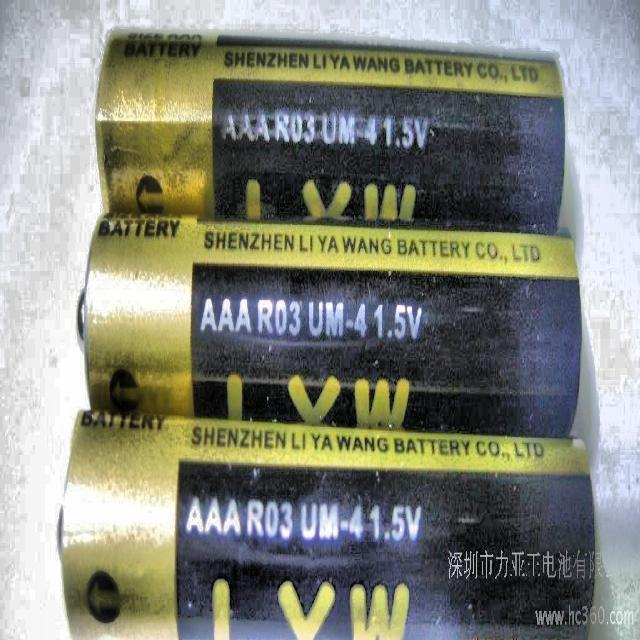Non-Valuable Waste - Batteries: (60, 411, 595, 638), (81, 218, 581, 434), (96, 31, 565, 233)
